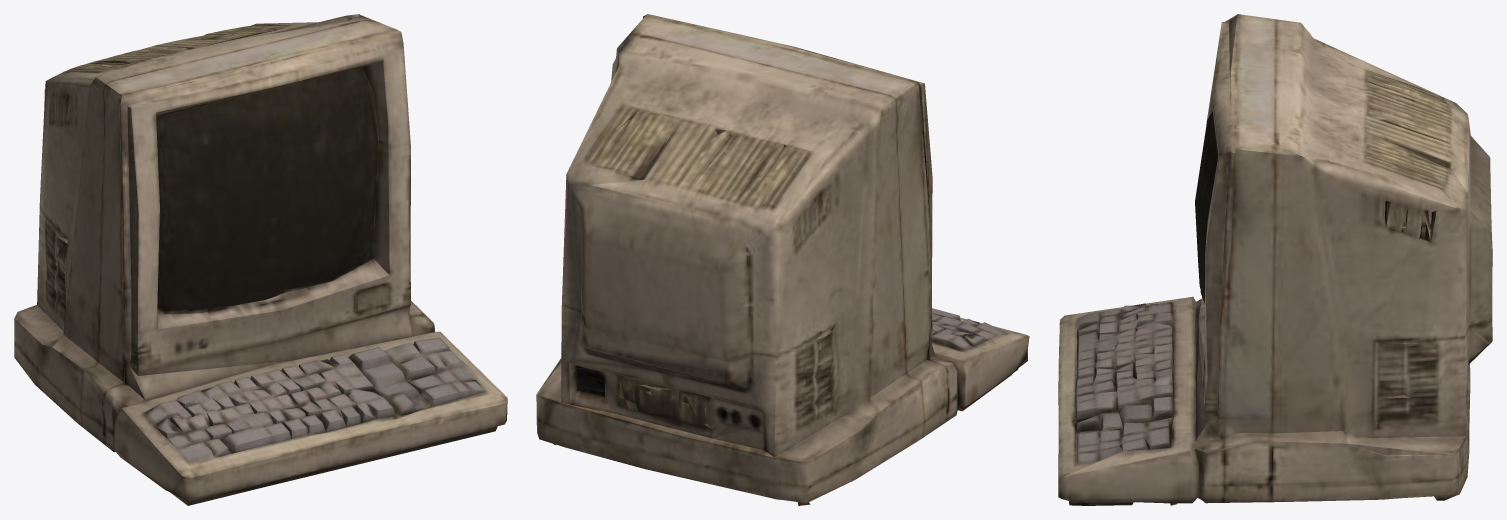
File: p7-crt-terminal.glb
The picture shows the model from 3 angles, left to right: view 1: azimuth 30°, elevation 25°; view 2: azimuth 150°, elevation 25°; view 3: azimuth 270°, elevation 25°; orthographic projection.
Parts seen in each view (by area): view 1: p7-crt-terminal; view 2: p7-crt-terminal; view 3: p7-crt-terminal.
Boxes of the visible parts, box(x1,y1,x2,y2) form: p7-crt-terminal: box(14, 14, 507, 505); p7-crt-terminal: box(536, 14, 1029, 505); p7-crt-terminal: box(1058, 14, 1492, 505).
Size of the model in its own units: 0.4386 by 0.45 by 0.5.
1 material, 1 textured.
